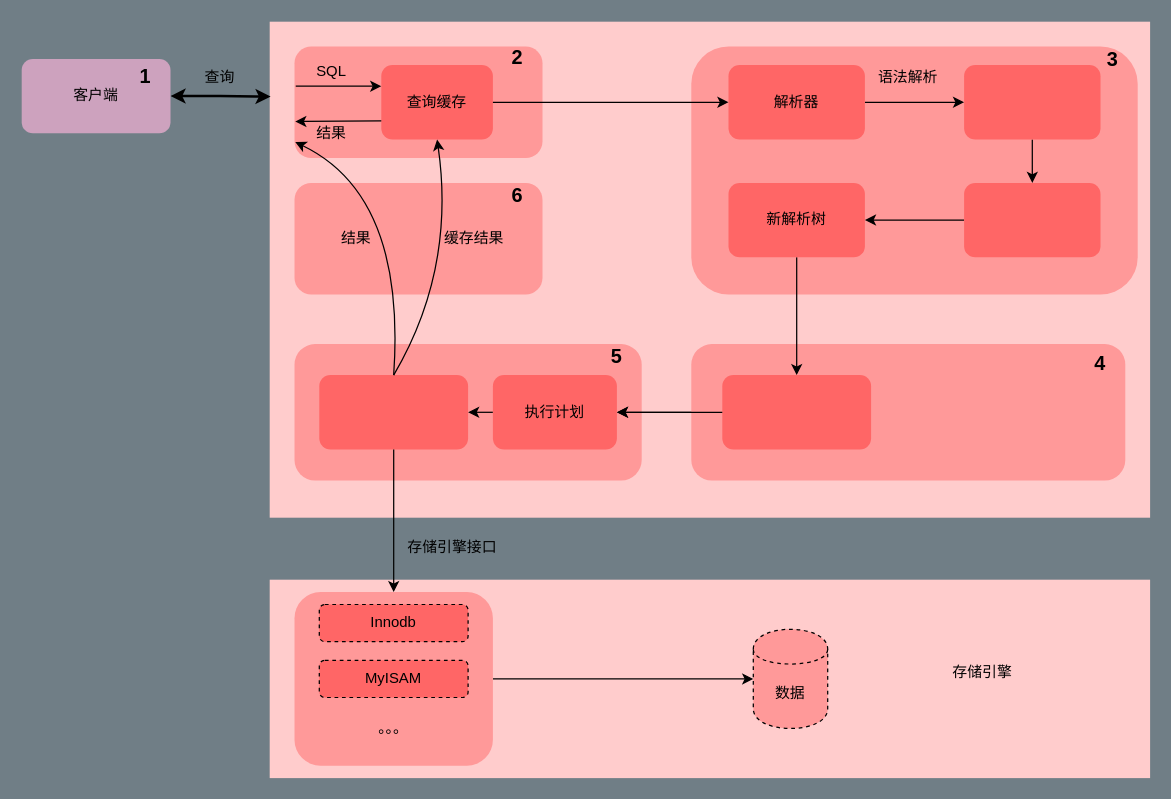
Image size: 1171x799. Some labels were removed from this diagram. The shapes that lost their labels are listed below. From the top down, each one's centre as x and y in pixels, then its label:
point 1031,101: 解析树
point 1031,219: 预处理器
point 393,411: 查询执行引擎
point 796,411: 查询优化器
